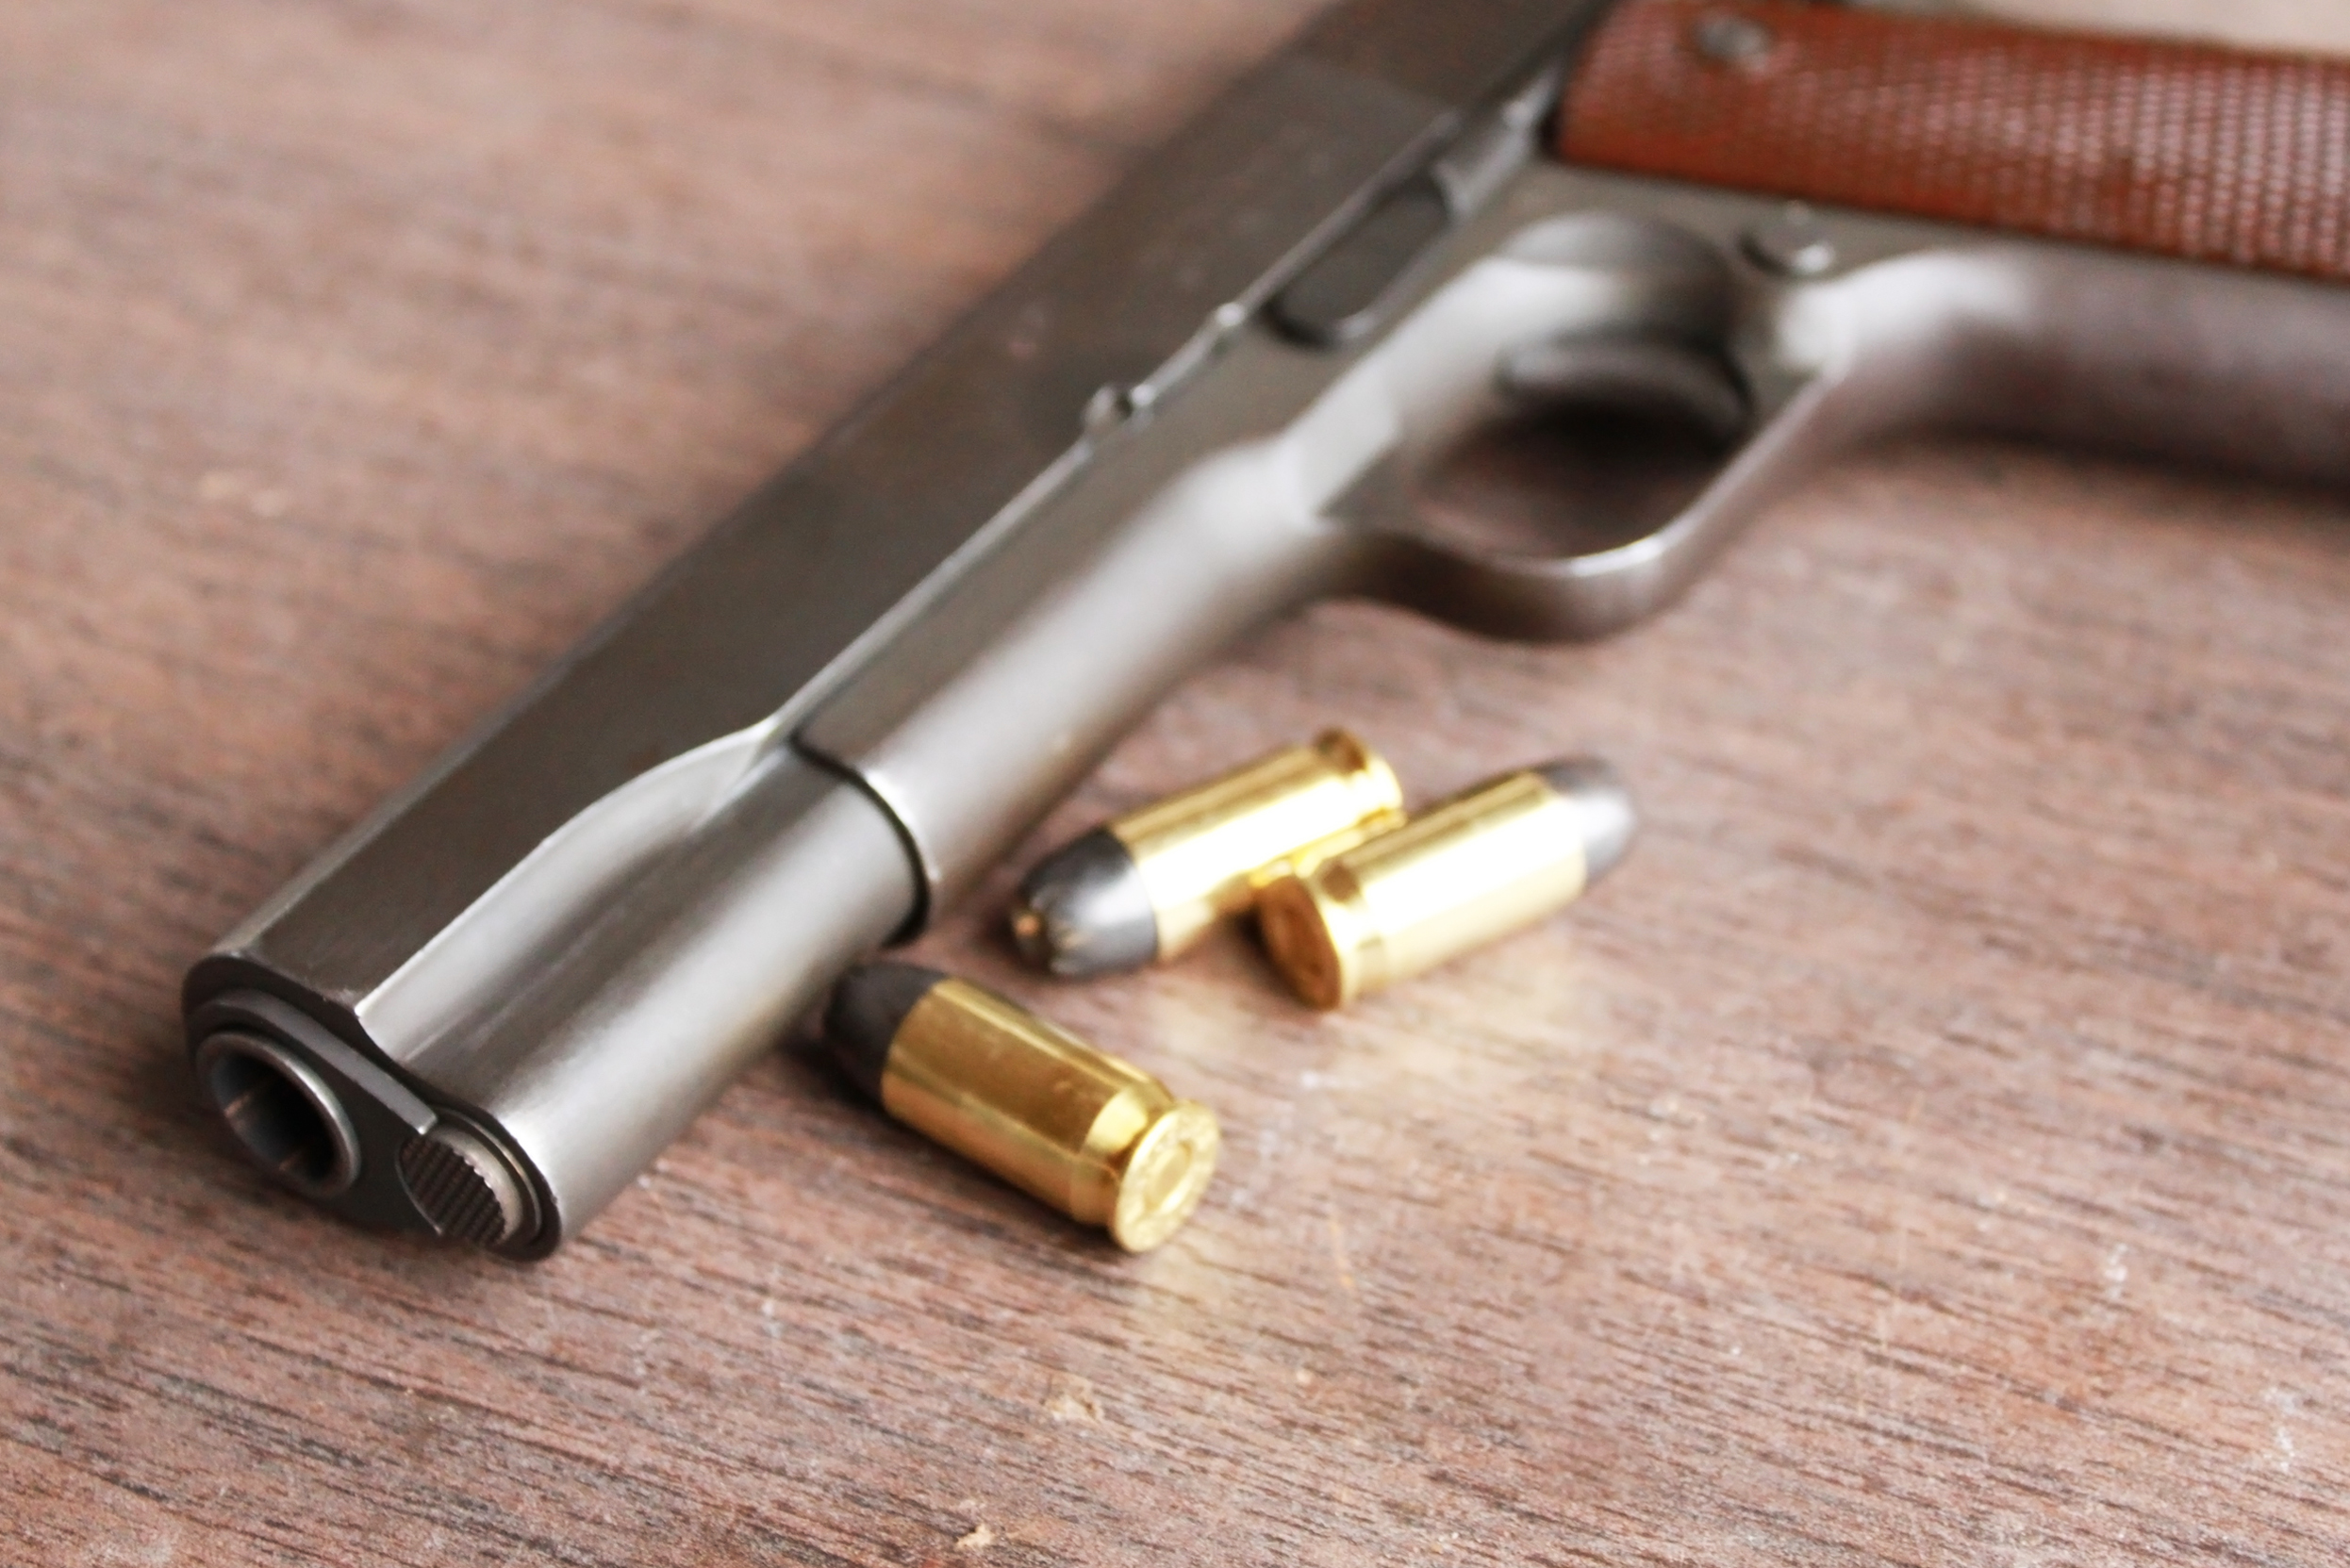Gun: (145, 53, 2233, 1339)
